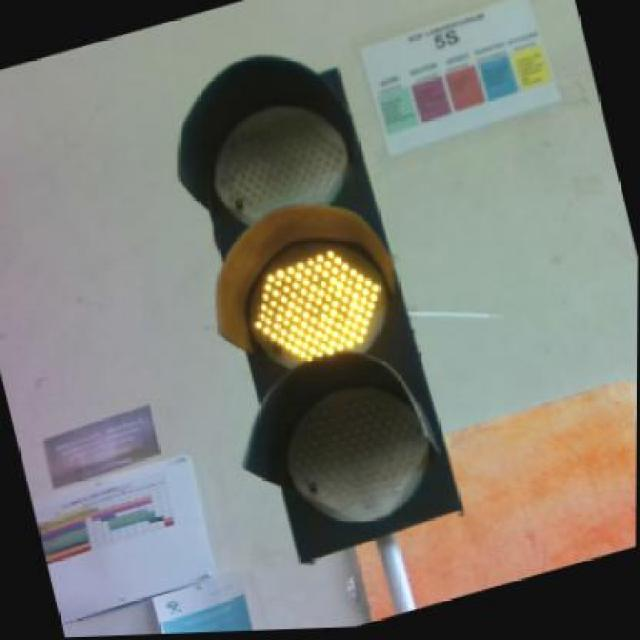yellow_light: (155, 27, 470, 570)
